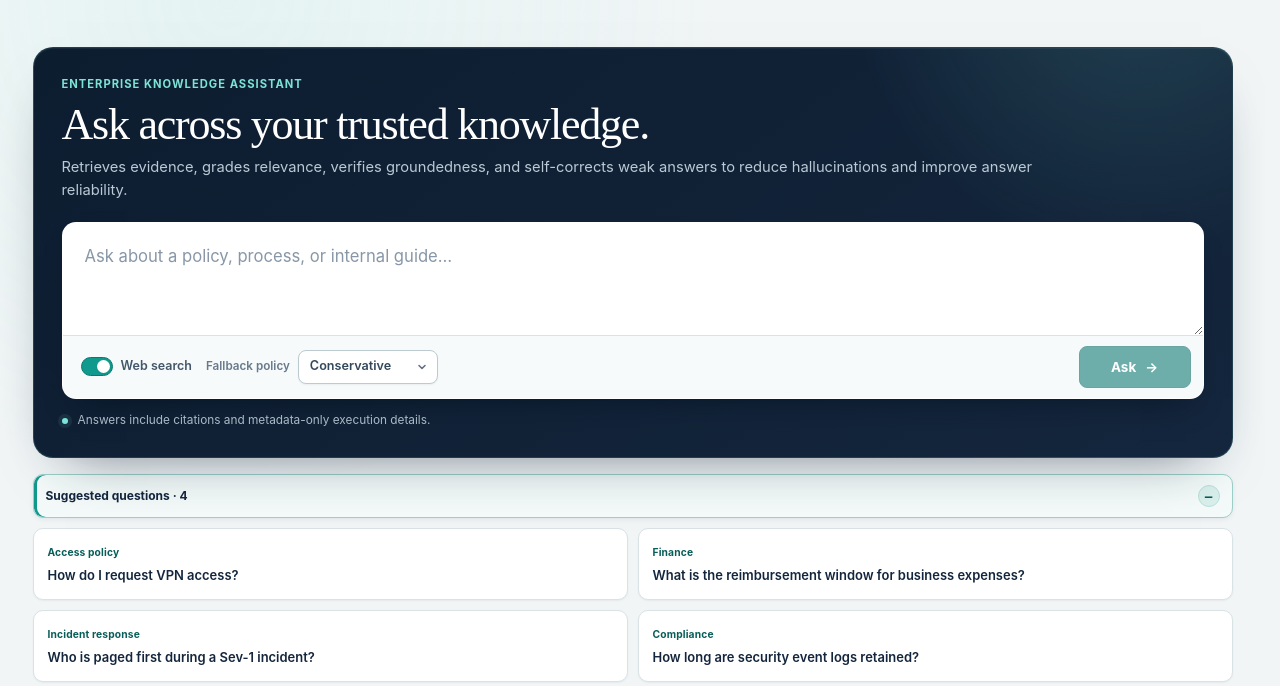
Test case: AskPage › keeps submission locked when cancellation is accepted but the backend is not idle
The width and height of the screenshot is (1280, 686).
Type "What is the expense policy?" into the text box named "Question" at (632, 279), box 62,223 -> 1202,334
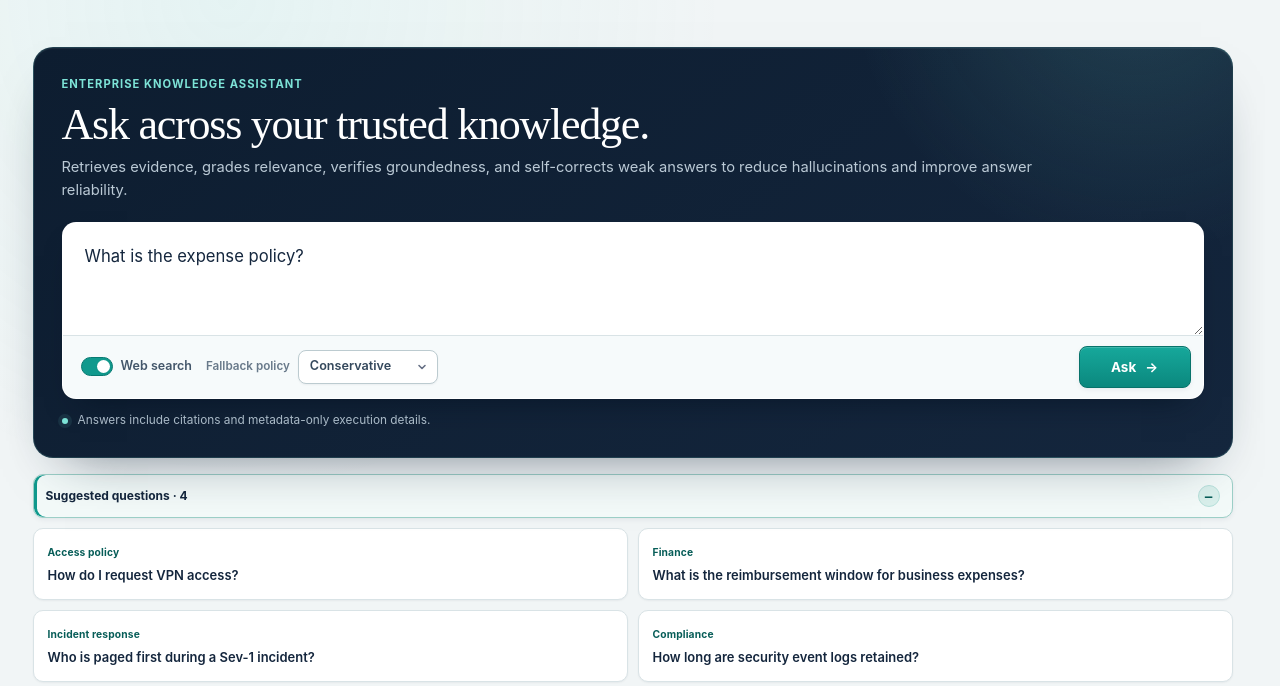
Click the button "Ask →" at (1134, 367), box 1078,346 -> 1190,388
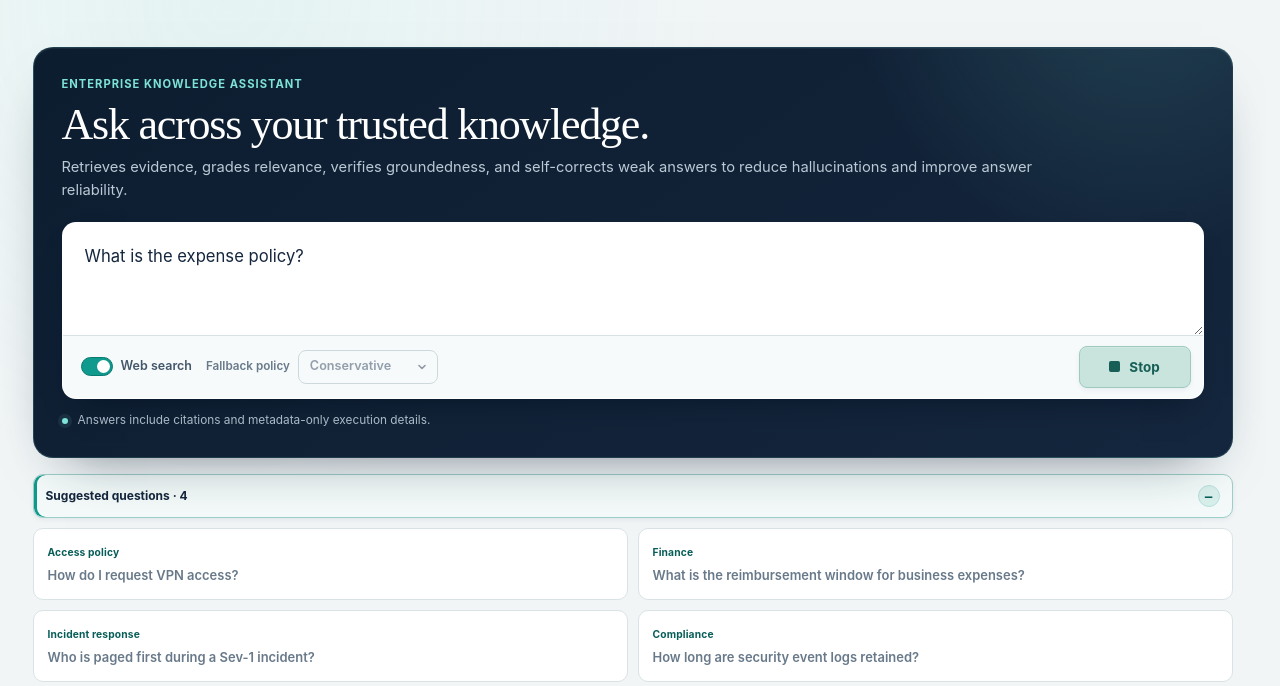
Click the button "Stop" at (1134, 367), box 1078,346 -> 1190,388
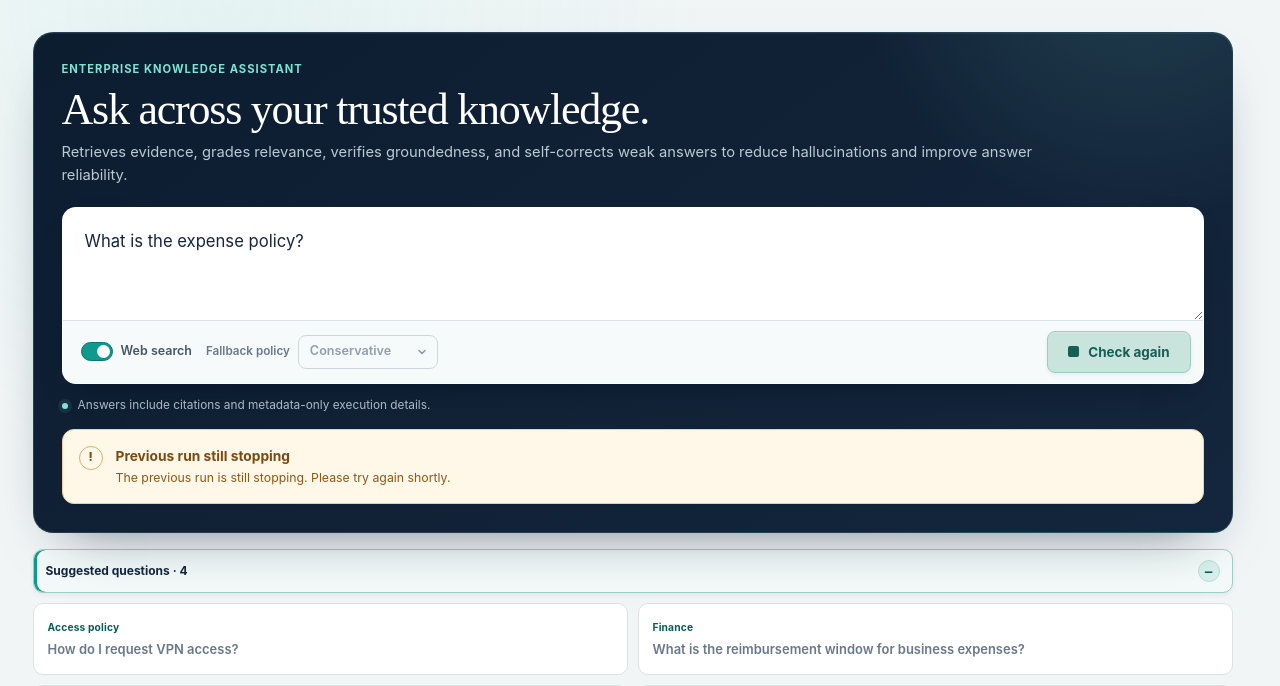
Expected: the text box named "Question" is disabled, 62,208 -> 1202,320
Expected: the text "The previous run is still stopping. Please try again shortly." is shown, 116,470 -> 450,485
Click the button "Check again" at (1119, 352), box 1047,331 -> 1190,373
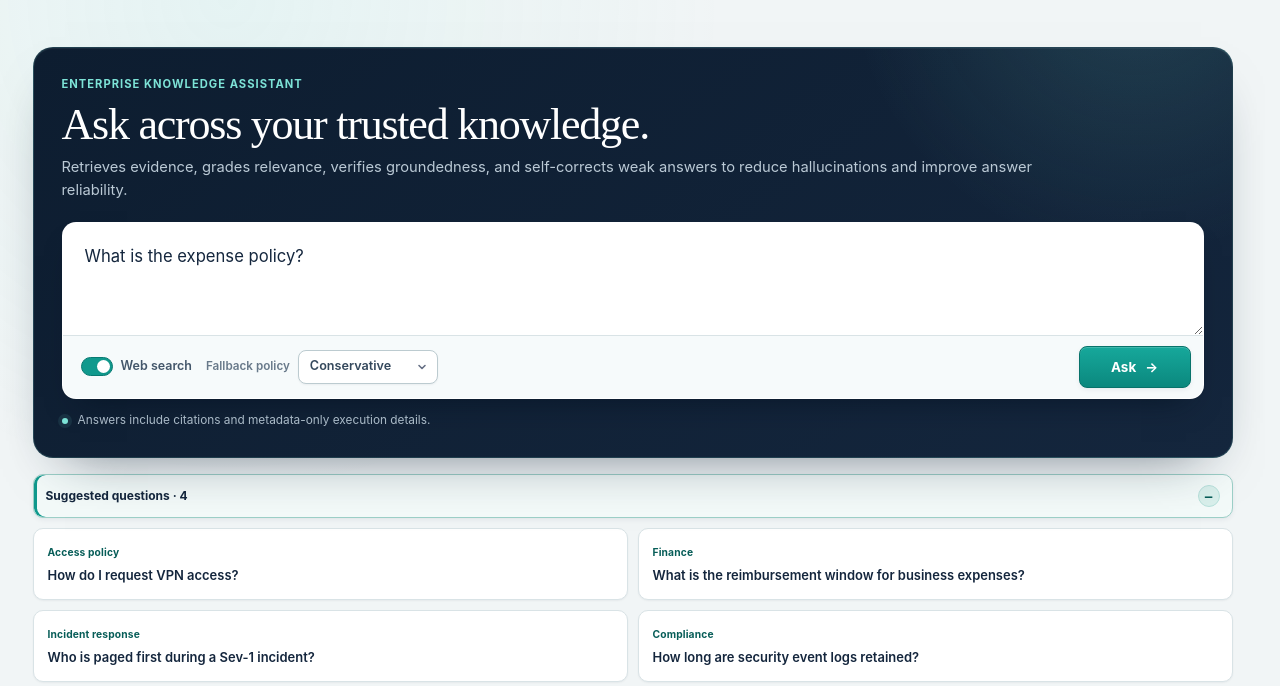
Expected: the button "Ask →" is enabled, 1078,346 -> 1190,388
Expected: the text box named "Question" is enabled, 62,223 -> 1202,334
Expected: the message is gone
